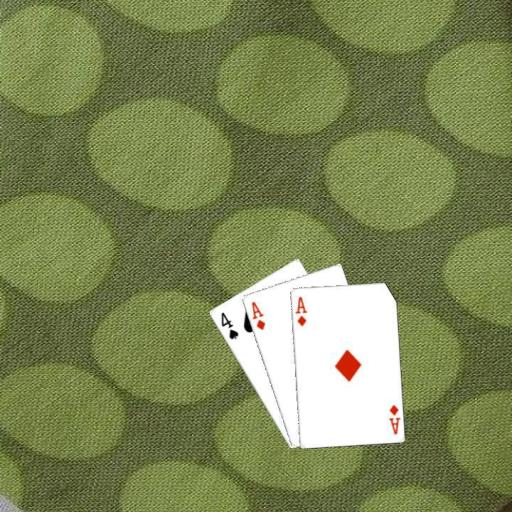4S: (218, 309, 240, 341)
AD: (248, 298, 267, 331), (292, 293, 308, 327), (385, 402, 401, 435)
